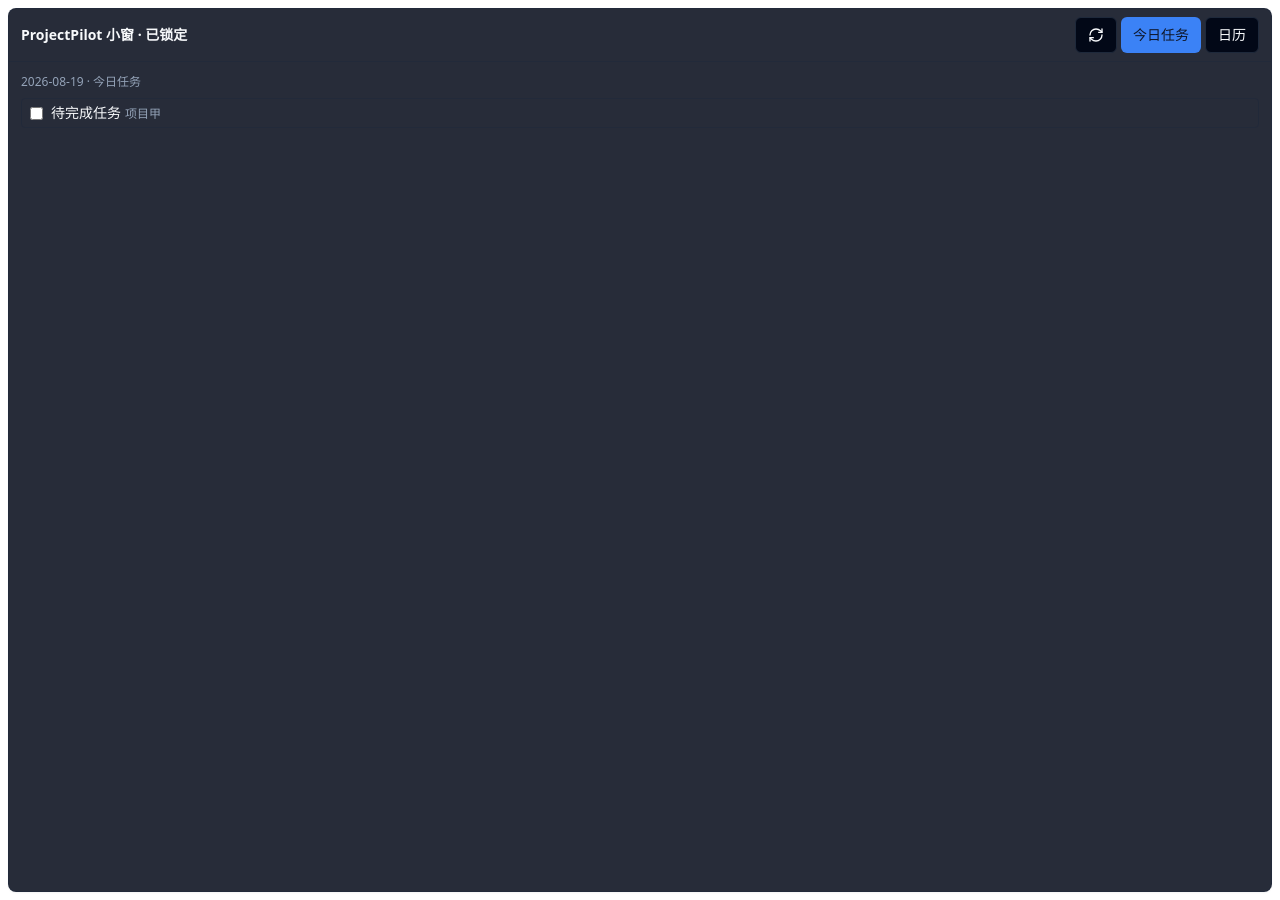
Test: DesktopWidgetApp task confirmation and refresh › asks before completion and cancelling keeps the task unchanged
This screenshot has width=1280, height=900.
Expected: the button "待完成任务" is shown, [51,103,1242,123]
What coordinates should you click on to do the following:
click the checkbox named "完成 待完成任务"
I would click on:
 (36, 113)
Its box is [30,106,43,120].
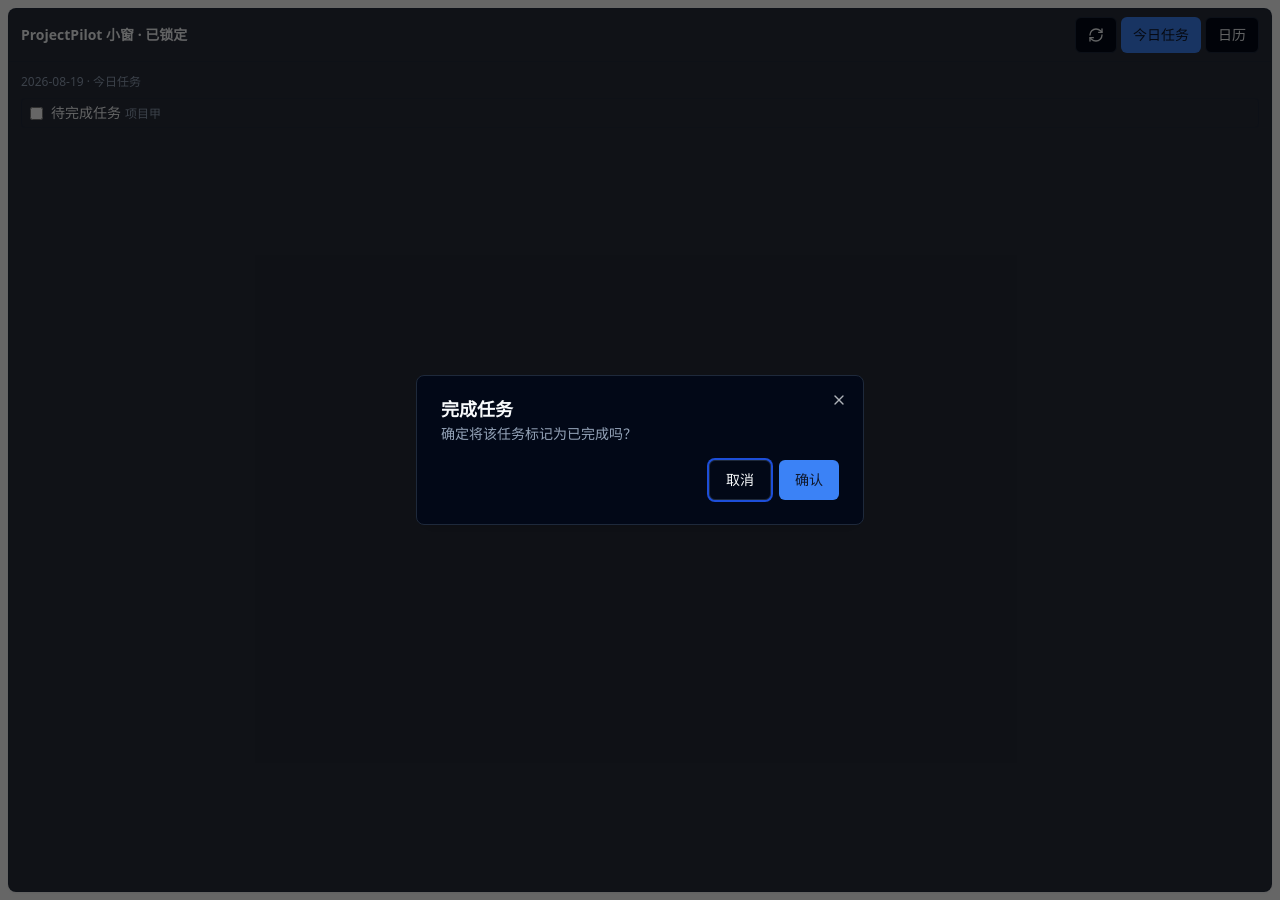
Now the text "确定将该任务标记为已完成吗？" is shown, box [441,424,637,443]
What coordinates should you click on to do the following:
click the button "取消"
I would click on:
 (740, 480)
Its box is [709,460,771,500].
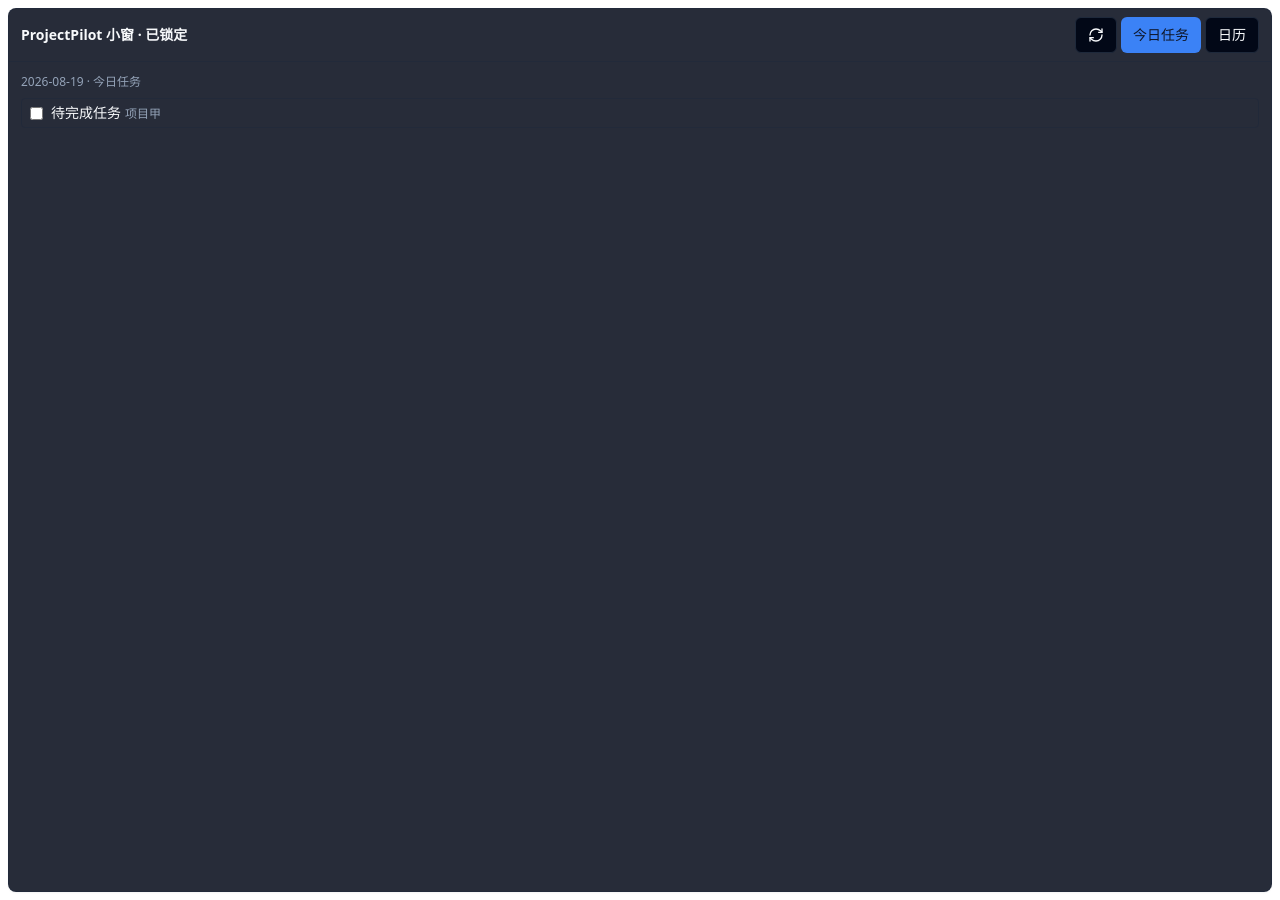
Now the dialog is gone
